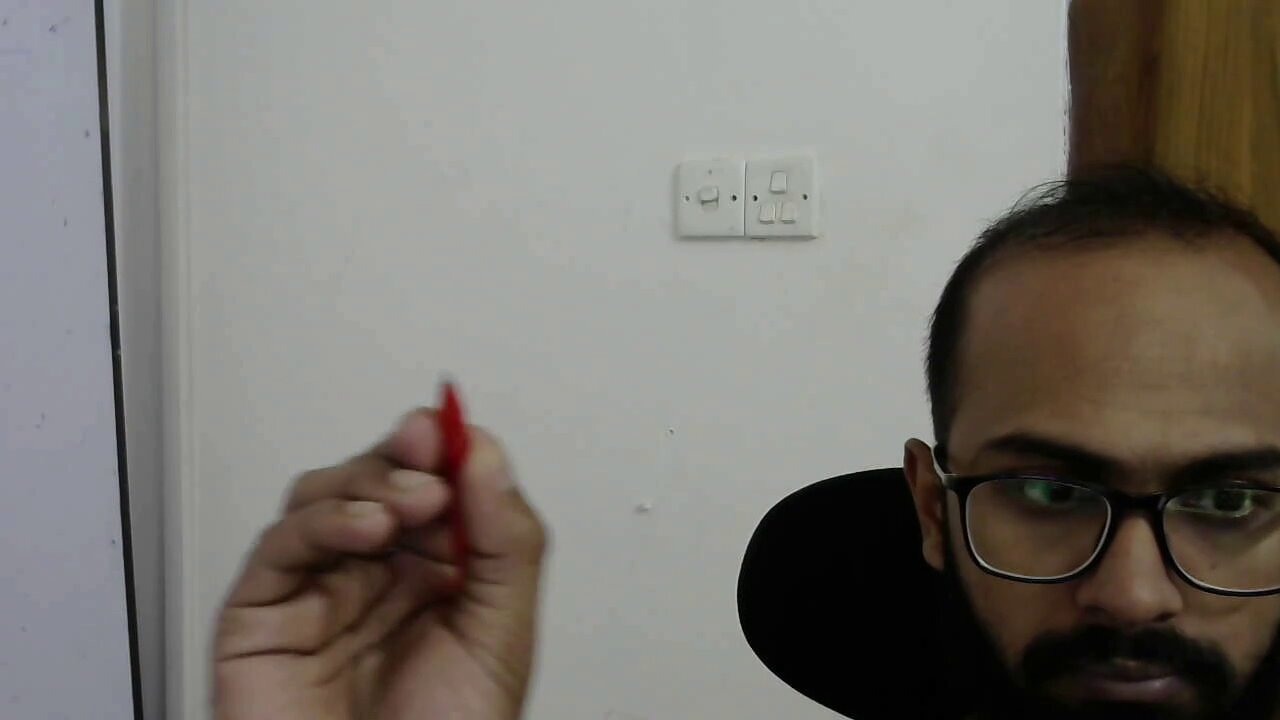pointer: (204, 412, 567, 720)
